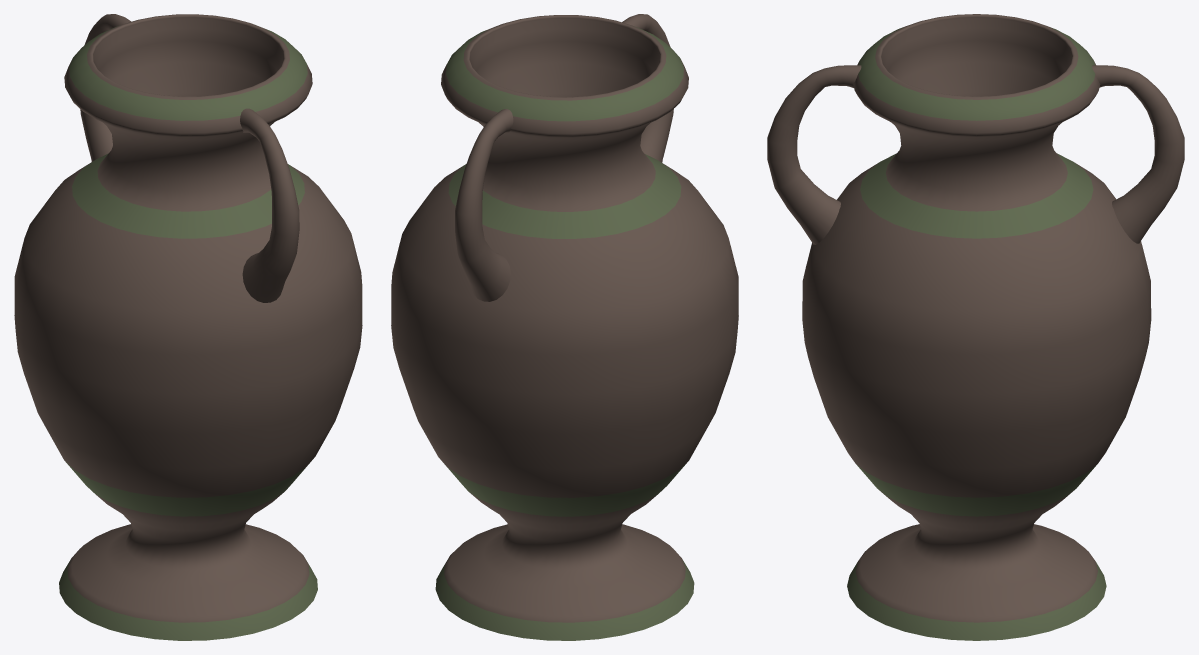
The model's file is pot03.fbx.
3 renders of one model, left to right at view 1: azimuth 30°, elevation 25°; view 2: azimuth 150°, elevation 25°; view 3: azimuth 270°, elevation 25°, orthographic.
Parts seen in each view (by area): view 1: pot03; view 2: pot03; view 3: pot03.
Part boxes in pixels (x1,y1,x2,y2): pot03: (14, 14, 362, 640); pot03: (391, 14, 738, 640); pot03: (767, 14, 1184, 640).
Size of the model in its own units: 0.4682 by 0.7859 by 0.5607.
